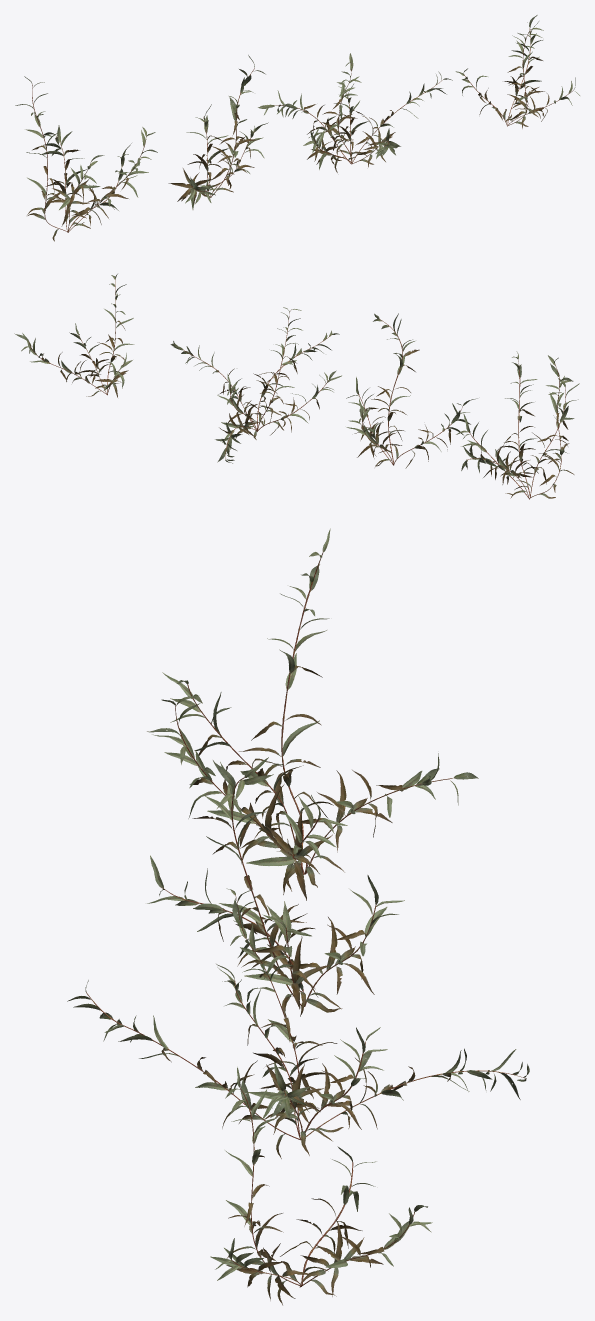
Rendered from shrub_02.l.b95d6ae2.glb.
The picture shows the model from 3 angles, top to bottom: view 1: azimuth 30°, elevation 25°; view 2: azimuth 150°, elevation 25°; view 3: azimuth 270°, elevation 25°; orthographic projection. The views are drawn at different scales.
Parts seen in each view (by area): view 1: shrub_02_c, shrub_02_a, shrub_02_b, shrub_02_d; view 2: shrub_02_a, shrub_02_c, shrub_02_b, shrub_02_d; view 3: shrub_02_a, shrub_02_c, shrub_02_b, shrub_02_d.
Part boxes in pixels (left/top/right/bottom): shrub_02_c: left=258, top=53, right=452, bottom=172; shrub_02_a: left=15, top=76, right=157, bottom=241; shrub_02_b: left=168, top=55, right=268, bottom=209; shrub_02_d: left=455, top=15, right=579, bottom=128; shrub_02_a: left=456, top=351, right=579, bottom=499; shrub_02_c: left=170, top=307, right=341, bottom=463; shrub_02_b: left=346, top=313, right=477, bottom=468; shrub_02_d: left=14, top=274, right=134, bottom=397; shrub_02_a: left=147, top=528, right=478, bottom=900; shrub_02_c: left=67, top=888, right=529, bottom=1158; shrub_02_b: left=147, top=757, right=404, bottom=1018; shrub_02_d: left=210, top=1067, right=432, bottom=1305.
Size of the model in its own units: 6.05 by 1.7 by 2.29.
Materials: 1 (1 with a texture image).
